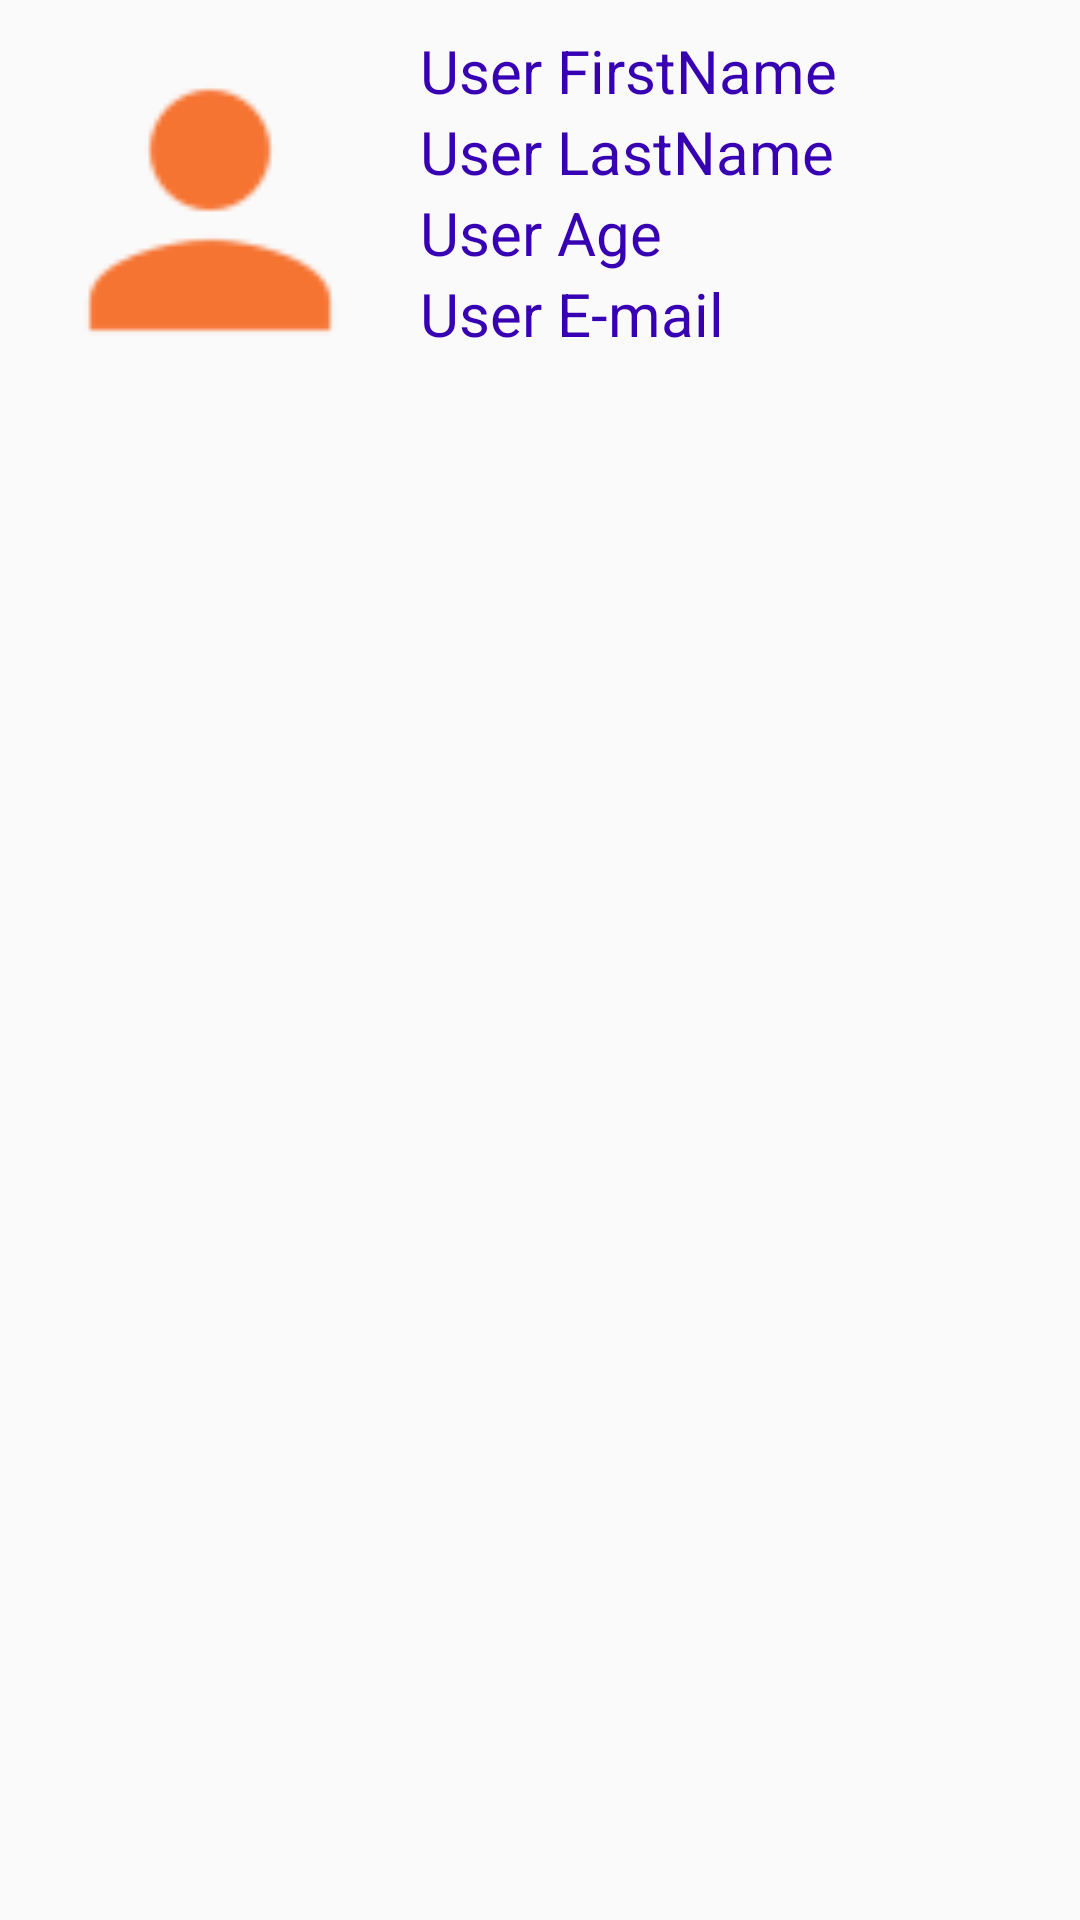

Locate icon controls on the screen. Image size 1080px x 1920px, boxes as {"x1": x1, "y1": y1, "x2": x2, "y2": y2}.
person: {"x1": 88, "y1": 88, "x2": 332, "y2": 332}
